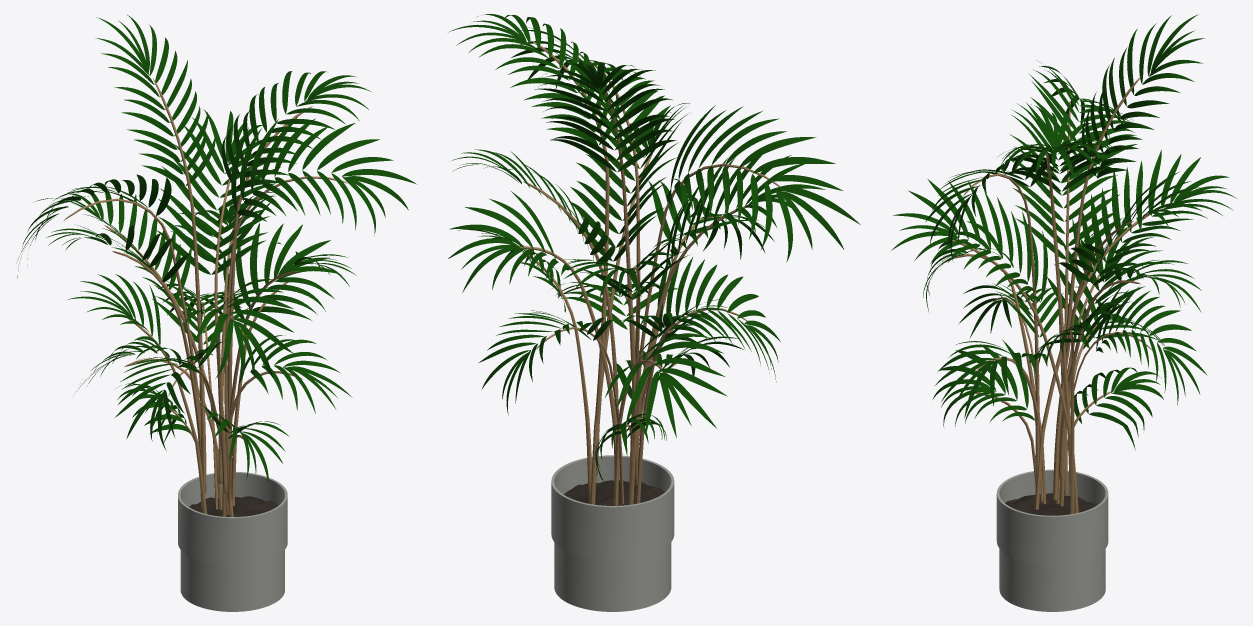
Rendered from plant.glb.
The picture shows the model from 3 angles, left to right: view 1: azimuth 30°, elevation 25°; view 2: azimuth 150°, elevation 25°; view 3: azimuth 270°, elevation 25°; orthographic projection. The views are drawn at different scales.
Size of the model in its own units: 1.4 by 1.99 by 1.16.
